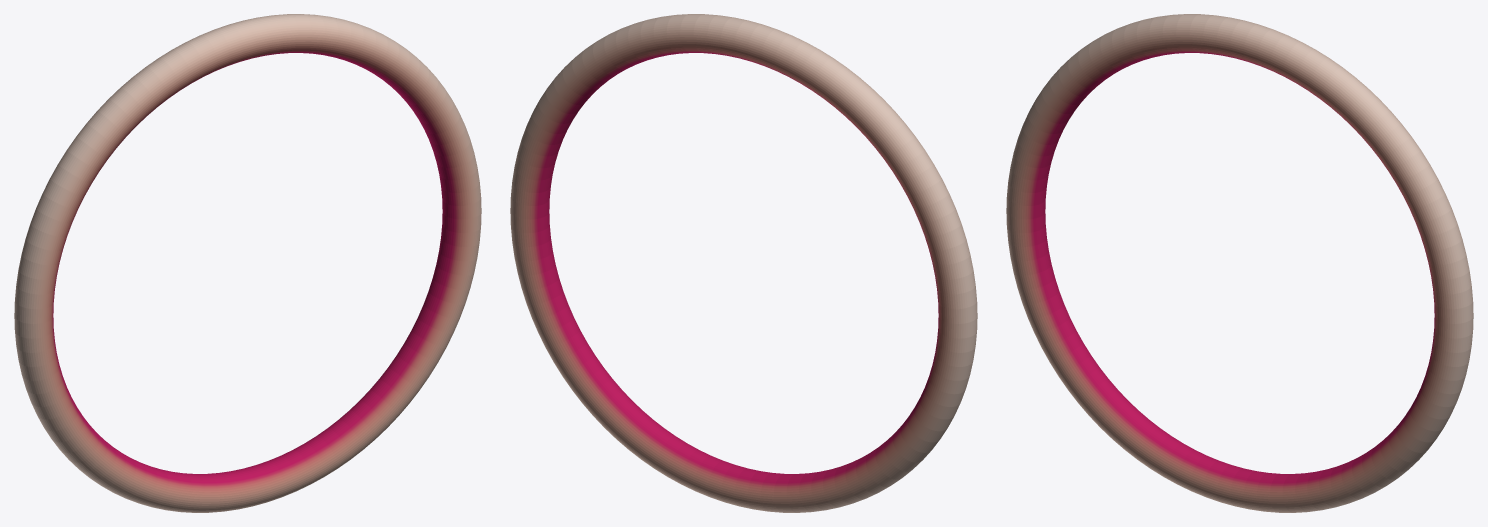
3 renders of one model, left to right at view 1: azimuth 30°, elevation 25°; view 2: azimuth 150°, elevation 25°; view 3: azimuth 330°, elevation 25°, orthographic.
Parts seen in each view (by area): view 1: world; view 2: world; view 3: world.
Part boxes in pixels (x1,y1,x2,y2): world: (14, 14, 481, 512); world: (510, 14, 977, 512); world: (1006, 14, 1473, 512).
Size of the model in its own units: 27.33 by 27.33 by 2.
